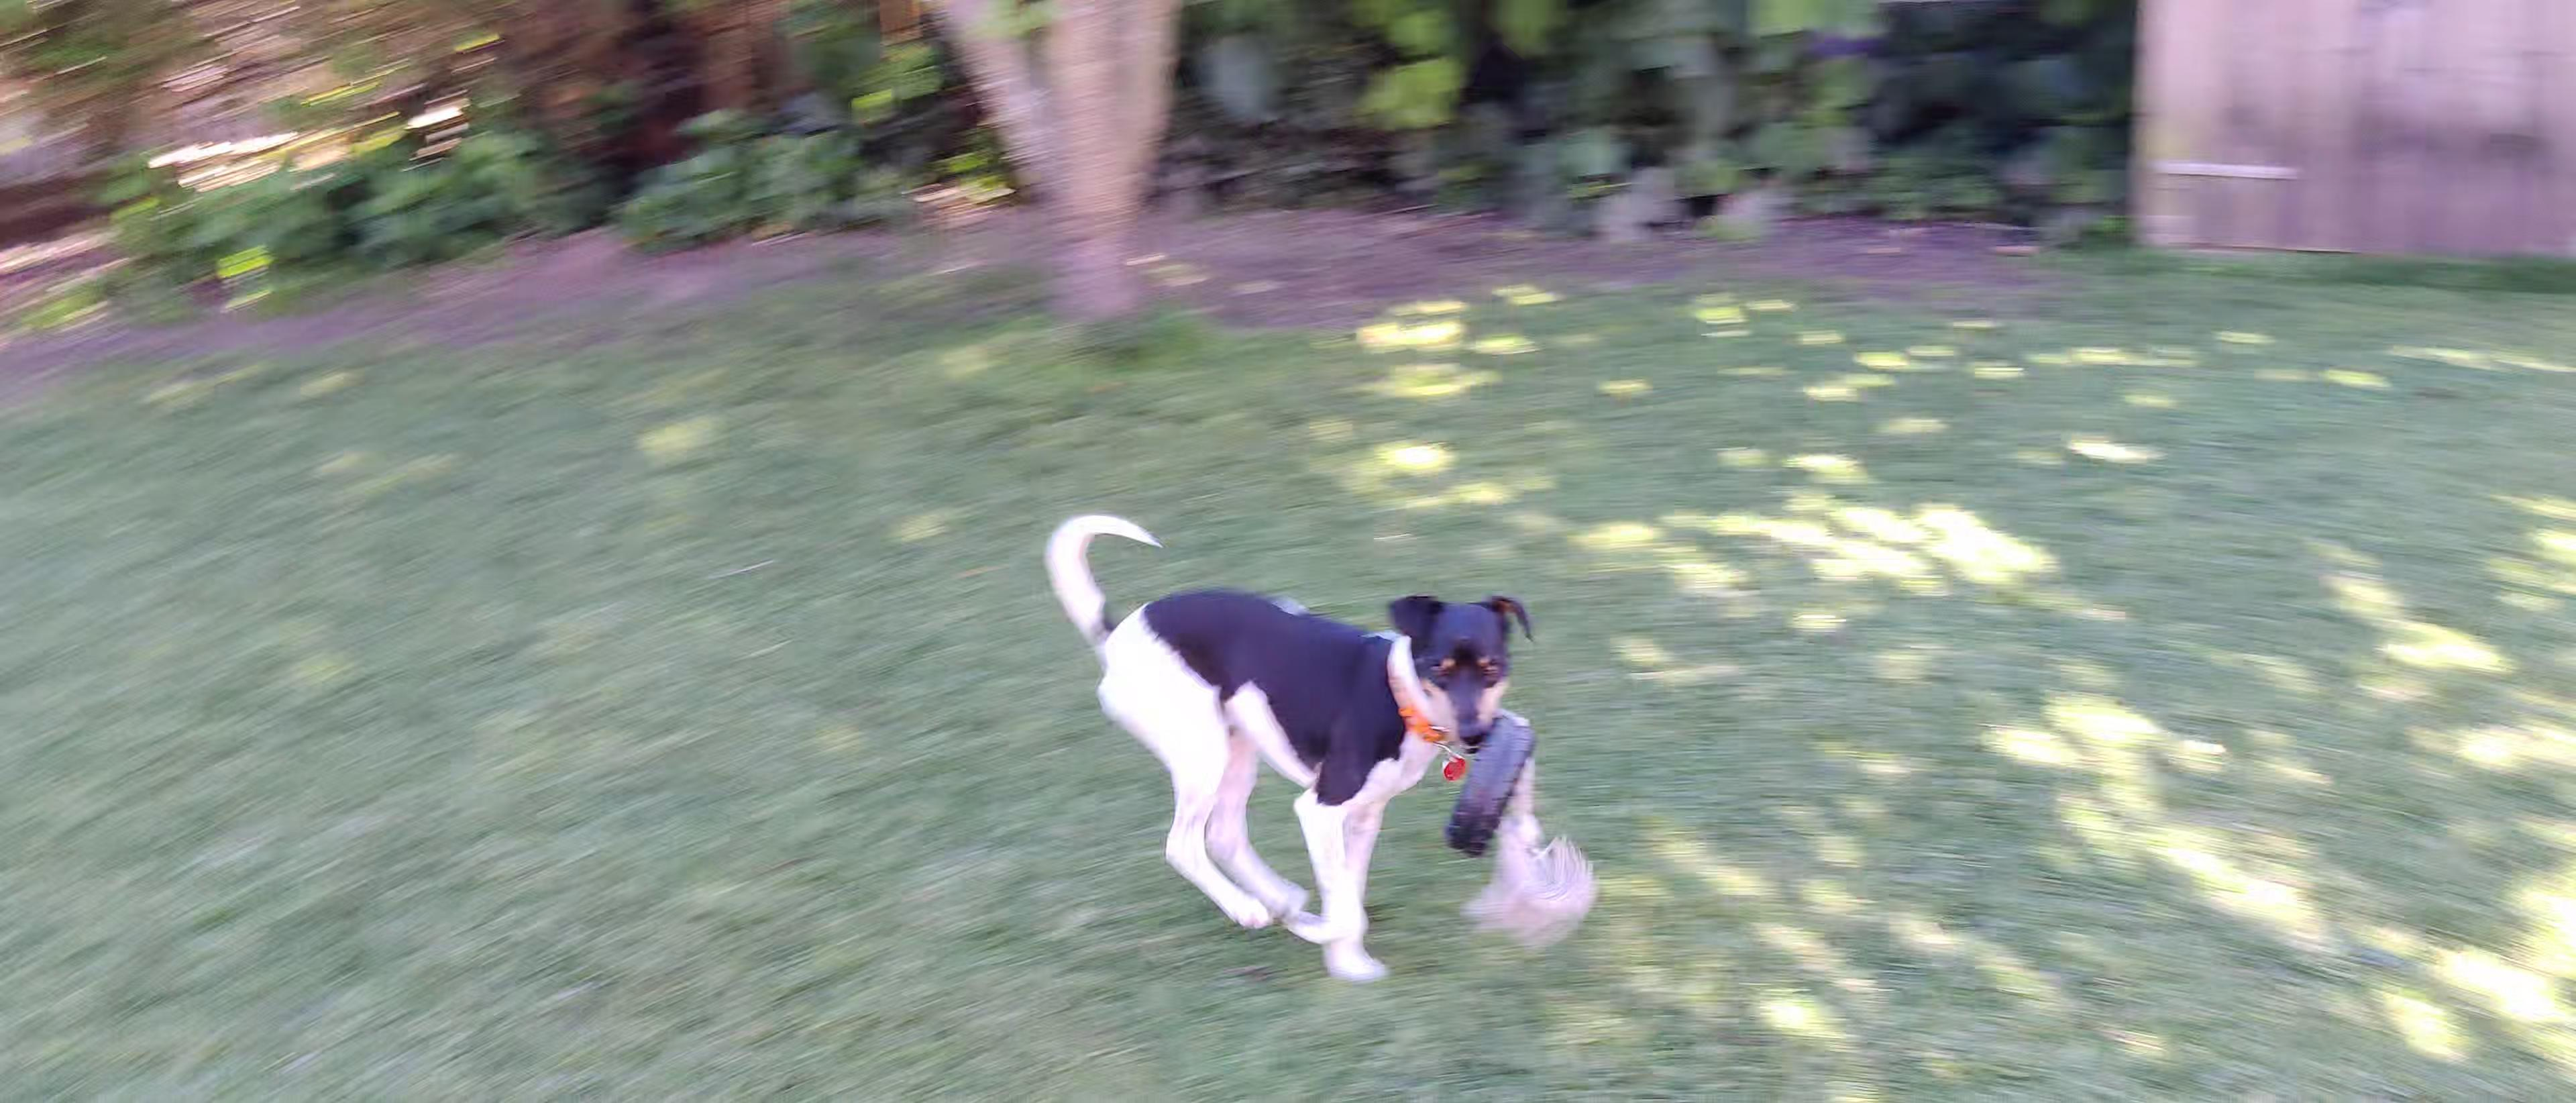Dog: (1040, 510, 1533, 985)
